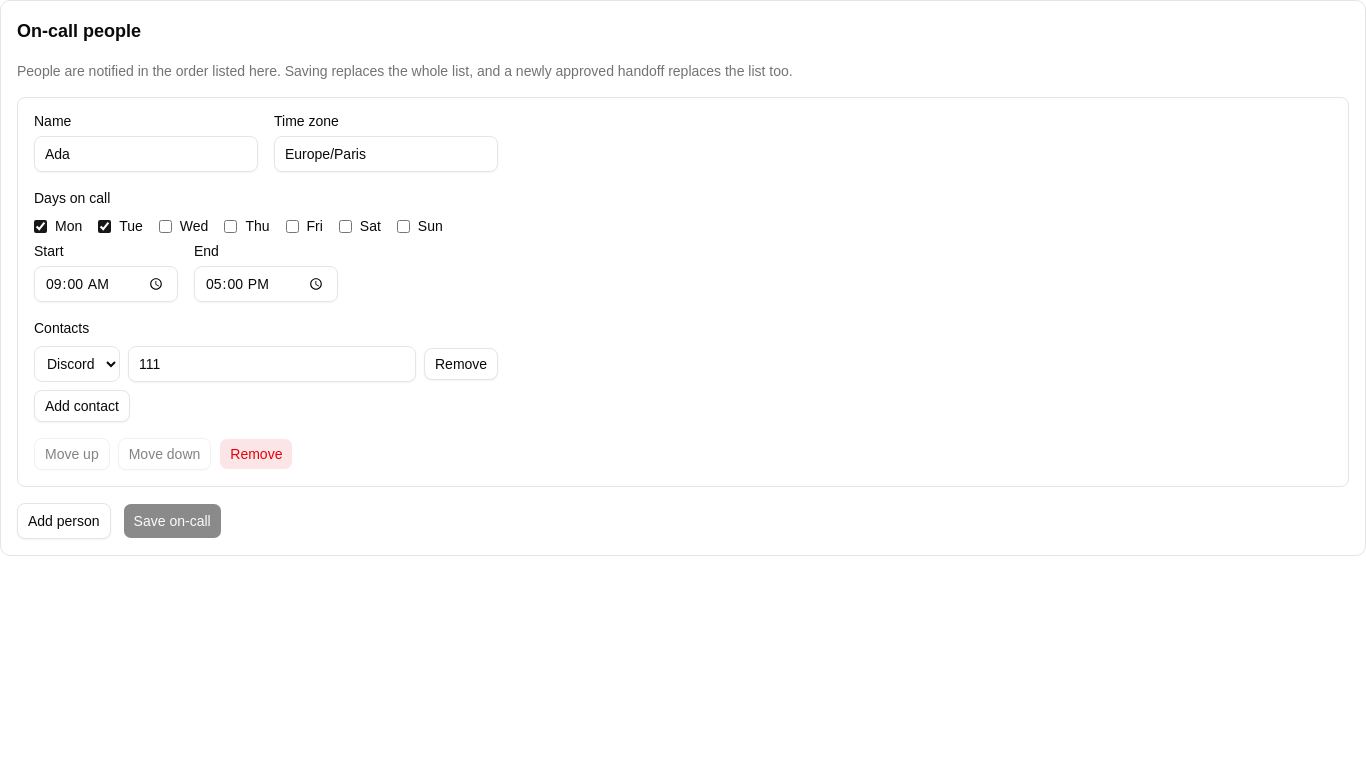
Test case: edits hours, days, channel and contacts
Click the checkbox labelled "Wed" at (165, 226), box [159,220,172,232]
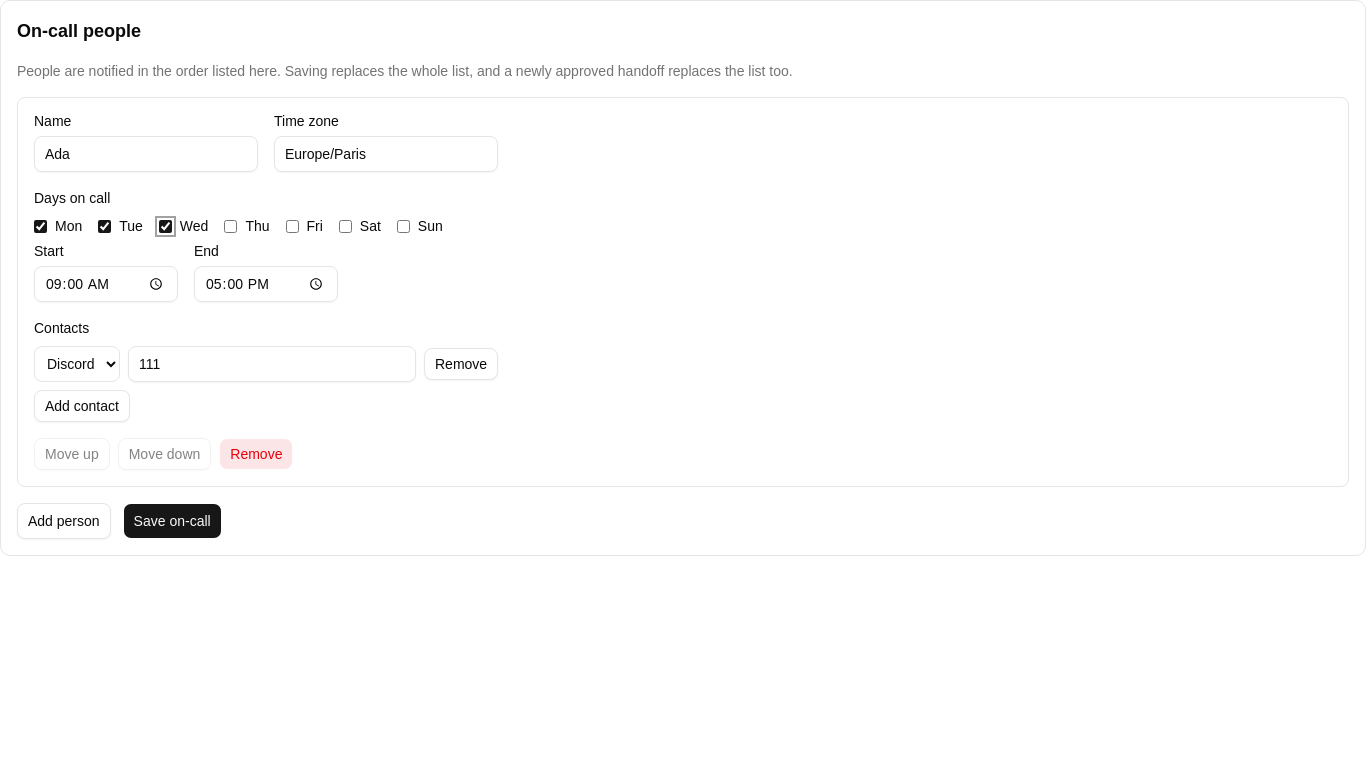
Click the checkbox labelled "Mon" at (40, 226), box [34,220,47,232]
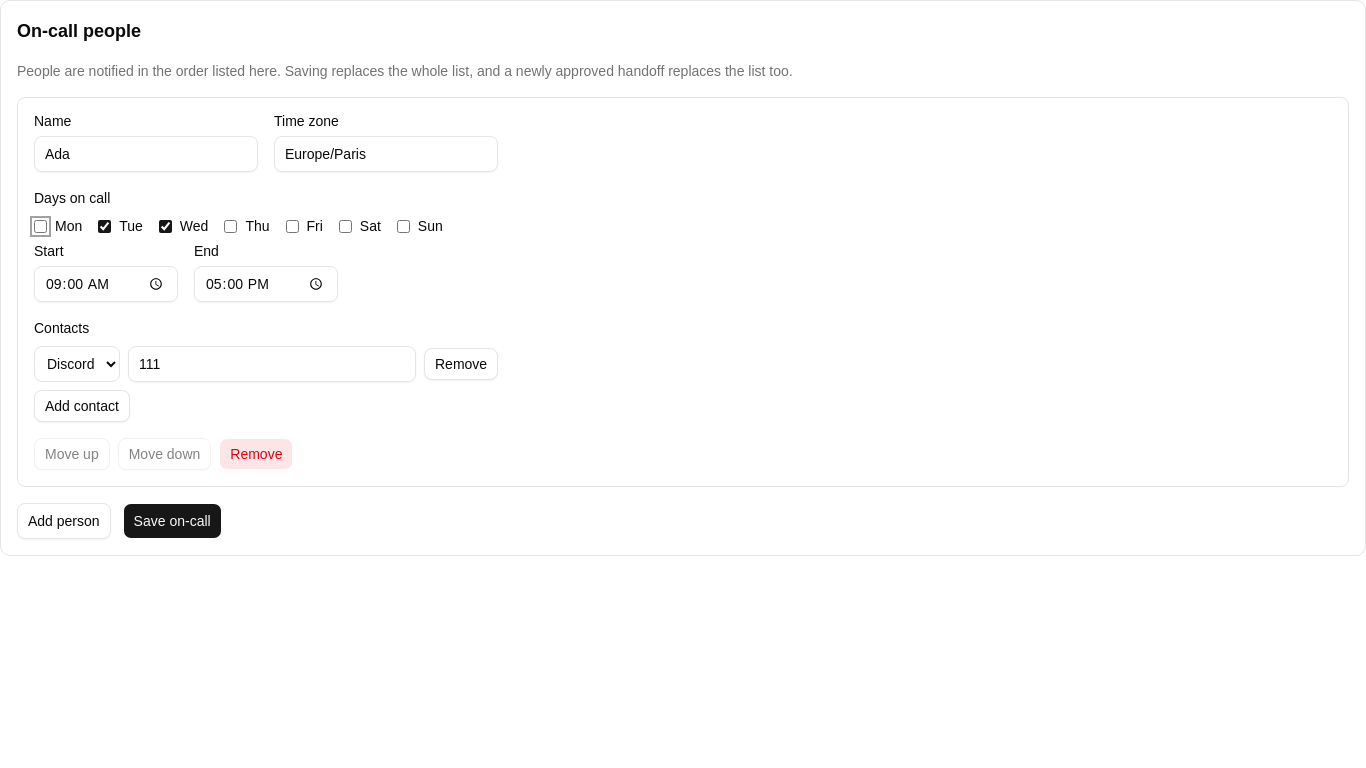
Replace the text in the time field labelled "Start" with "08:30" at (106, 284), box [34,266,178,302]
Select "Email" in the dropdown named "Contact 1 channel" at (77, 364), box [34,346,120,382]
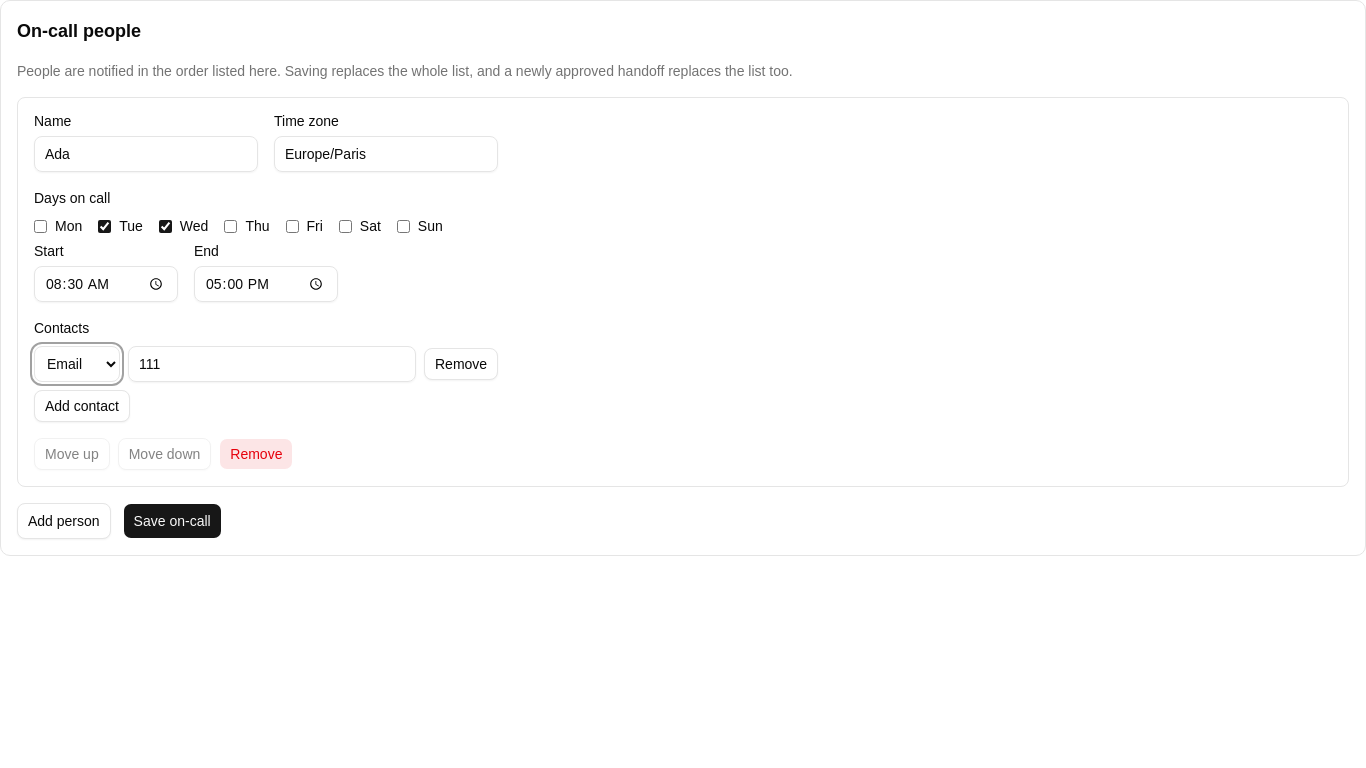
Click the button "Add contact" at (82, 406), box [34,390,130,422]
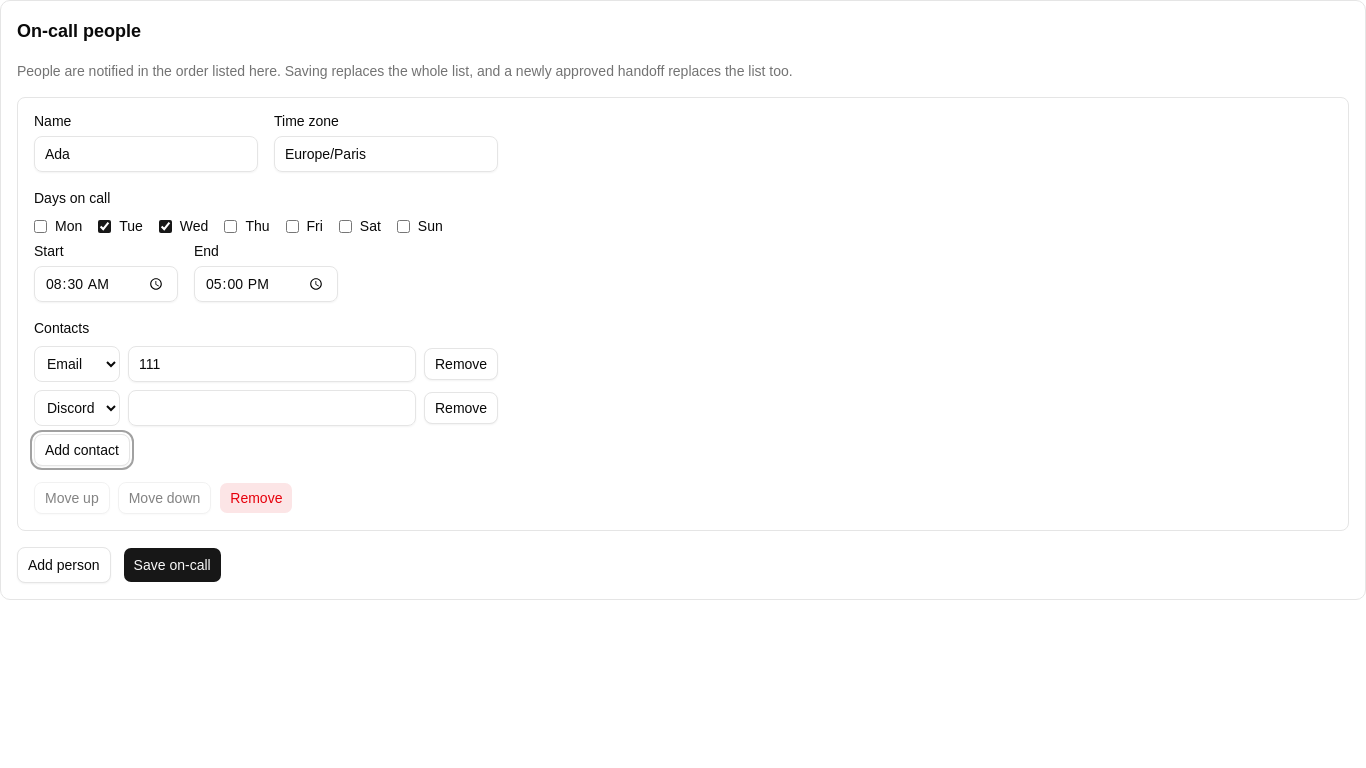
Type "x@y.test" into the field named "Contact 2 address" at (272, 408), box [128,390,416,426]
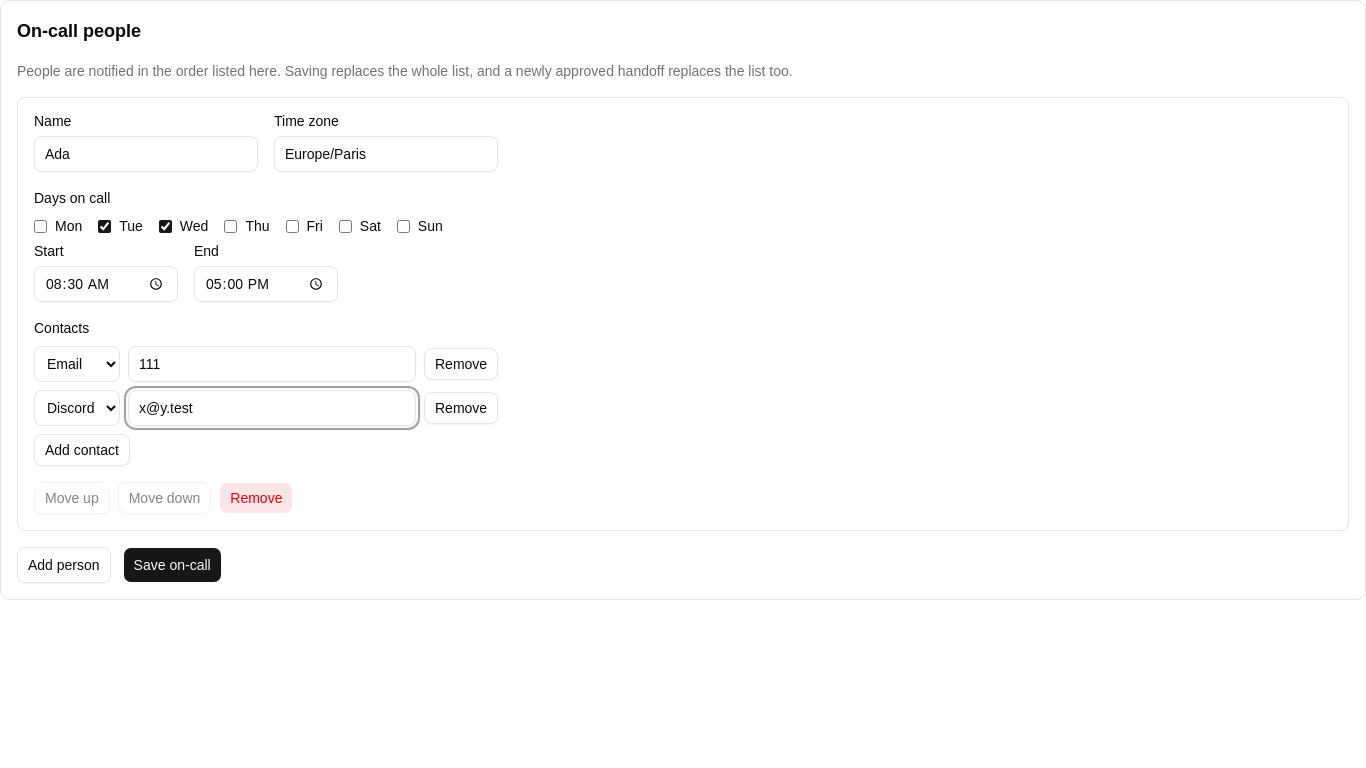
Click the button "Save on-call" at (172, 565), box [123,547,222,583]
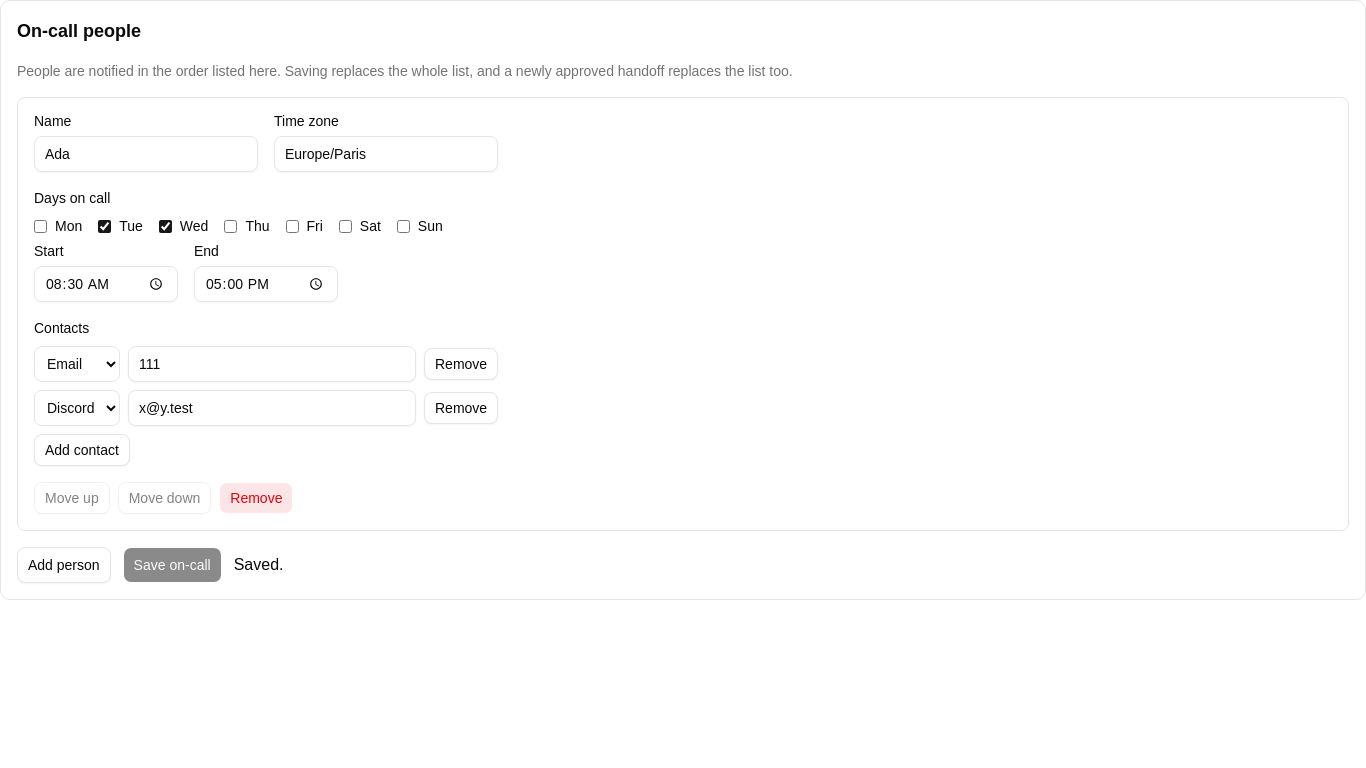
Expected: the text "Saved." is shown, [234,553,284,577]
